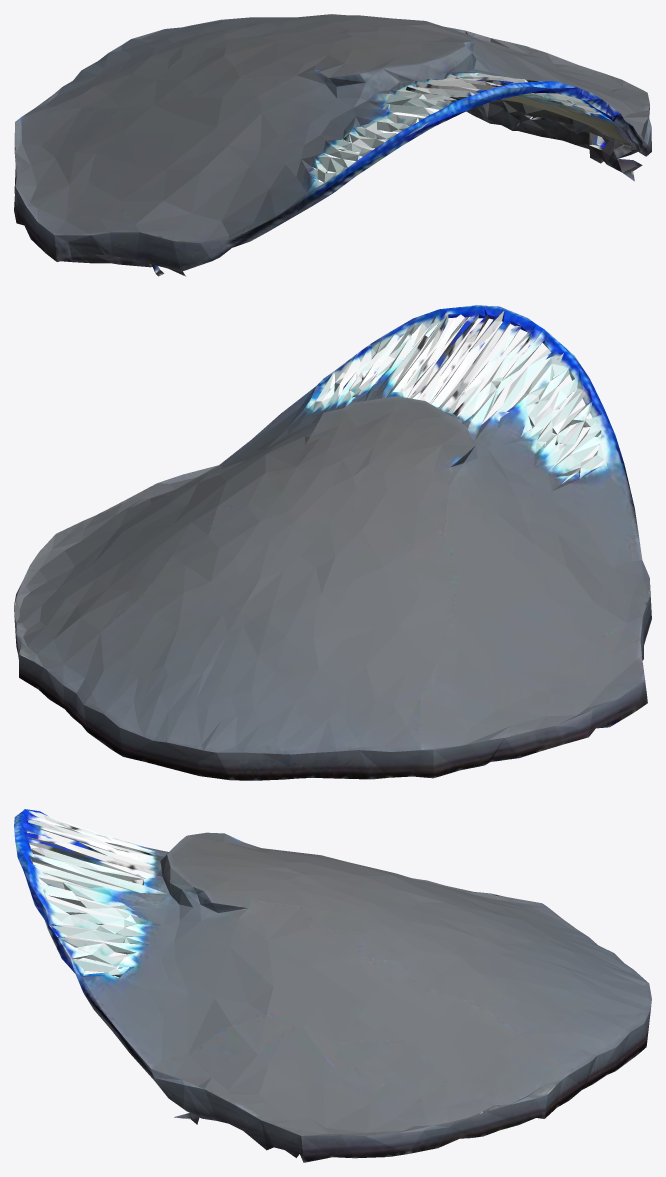
File: pabellon_raidillon.glb
3 views of the same model, one above another, from view 1: azimuth 30°, elevation 25°; view 2: azimuth 150°, elevation 25°; view 3: azimuth 270°, elevation 25° (orthographic). The views are drawn at different scales.
Visible parts, largest first — view 1: tmpvcjni0a7.ply; view 2: tmpvcjni0a7.ply; view 3: tmpvcjni0a7.ply.
Part boxes in pixels (x1=…): tmpvcjni0a7.ply: x1=14, y1=14, x2=651, y2=276; tmpvcjni0a7.ply: x1=14, y1=305, x2=651, y2=780; tmpvcjni0a7.ply: x1=14, y1=809, x2=651, y2=1162.
Size of the model in its own units: 1.99 by 0.6955 by 1.97.
Materials: 1 (1 with a texture image).
